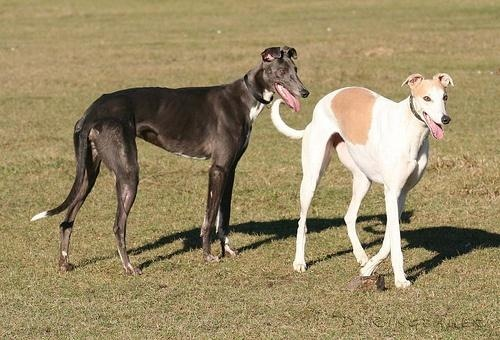dog: (26, 43, 315, 276), (272, 70, 466, 290)
